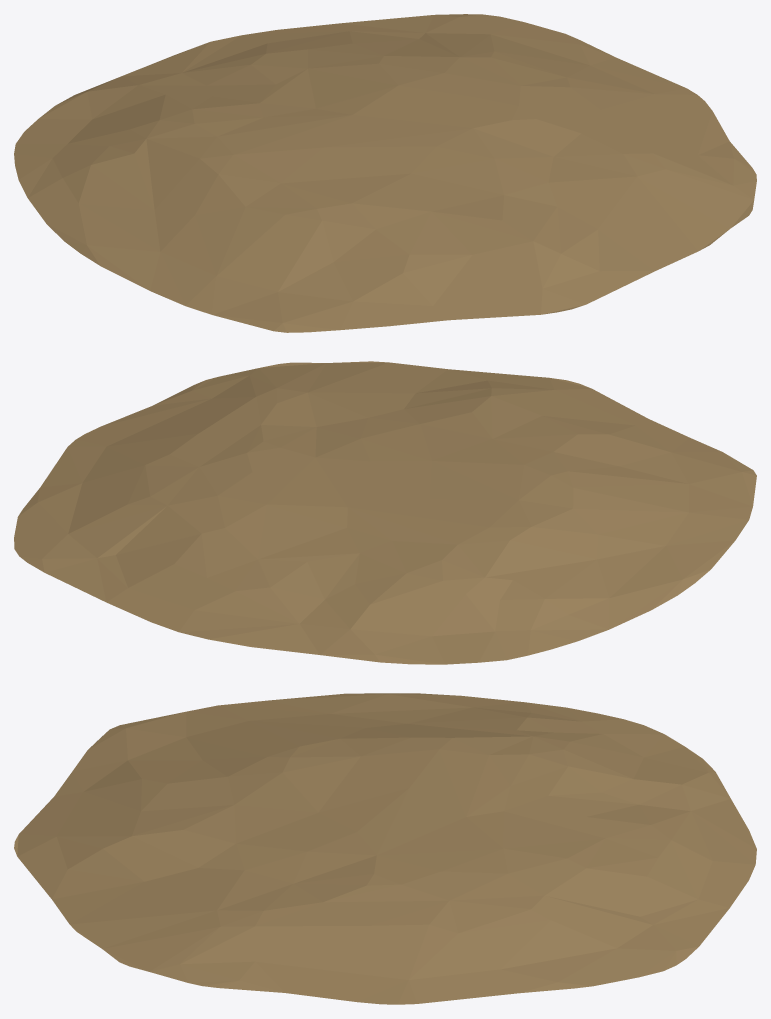
The model's file is SM_Envr_Nature_Farm_DirtRoad_Dirt.fbx.
3 views of the same model, one above another, from view 1: azimuth 30°, elevation 25°; view 2: azimuth 150°, elevation 25°; view 3: azimuth 270°, elevation 25° (orthographic). The views are drawn at different scales.
Parts seen in each view (by area): view 1: SM_Envr_Nature_Farm_DirtRoad_Dirt; view 2: SM_Envr_Nature_Farm_DirtRoad_Dirt; view 3: SM_Envr_Nature_Farm_DirtRoad_Dirt.
Boxes of the visible parts, box(x1,y1,x2,y2) form: SM_Envr_Nature_Farm_DirtRoad_Dirt: box(14, 14, 756, 332); SM_Envr_Nature_Farm_DirtRoad_Dirt: box(14, 361, 756, 664); SM_Envr_Nature_Farm_DirtRoad_Dirt: box(14, 693, 756, 1004).
Bounding box in the file's own units: 560 × 29.08 × 564.
